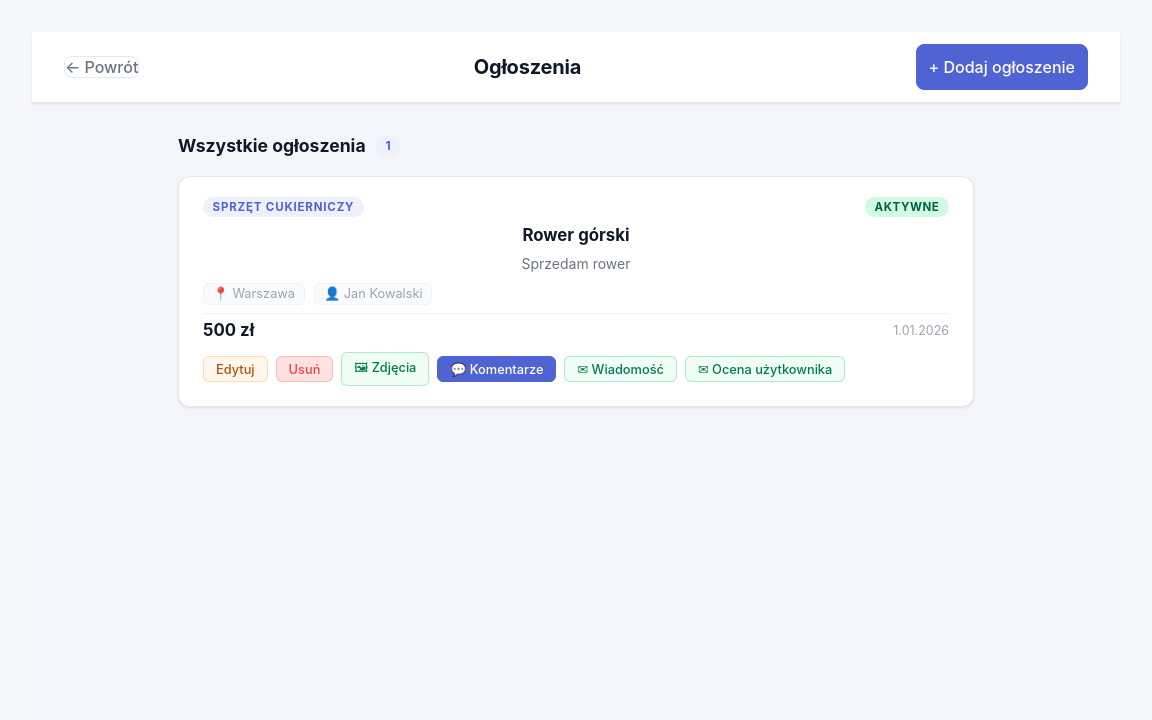
Test: Advertisement › otwiera formularz edycji z wypełnionymi danymi
expect the heading "Rower górski" is shown: met, box [522,225,630,245]
What coordinates should you click on to do the following:
click the button "Edytuj"
I would click on:
 (235, 369)
Its box is [203,356,268,382].
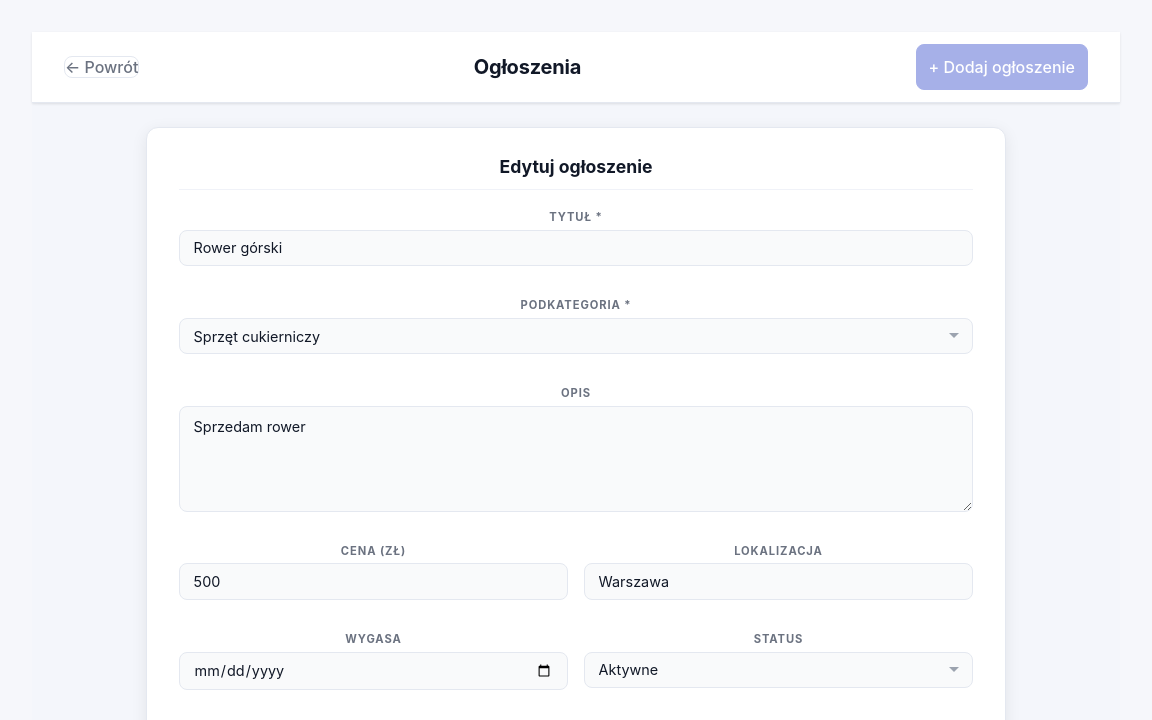
expect the heading "Edytuj ogłoszenie" is shown: met, box [179,156,973,190]
expect the field labelled "Tytuł *" holds "Rower górski": met, box [179,230,973,266]
